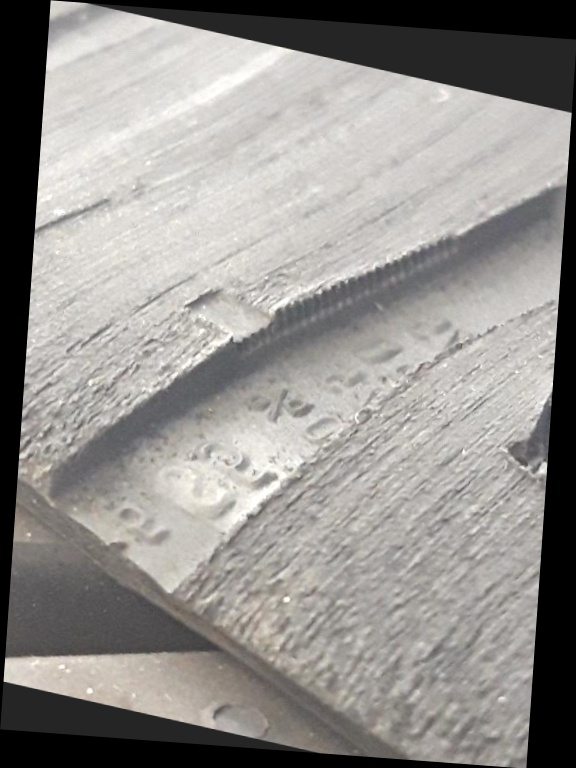temoin:0: (166, 252, 308, 376)
